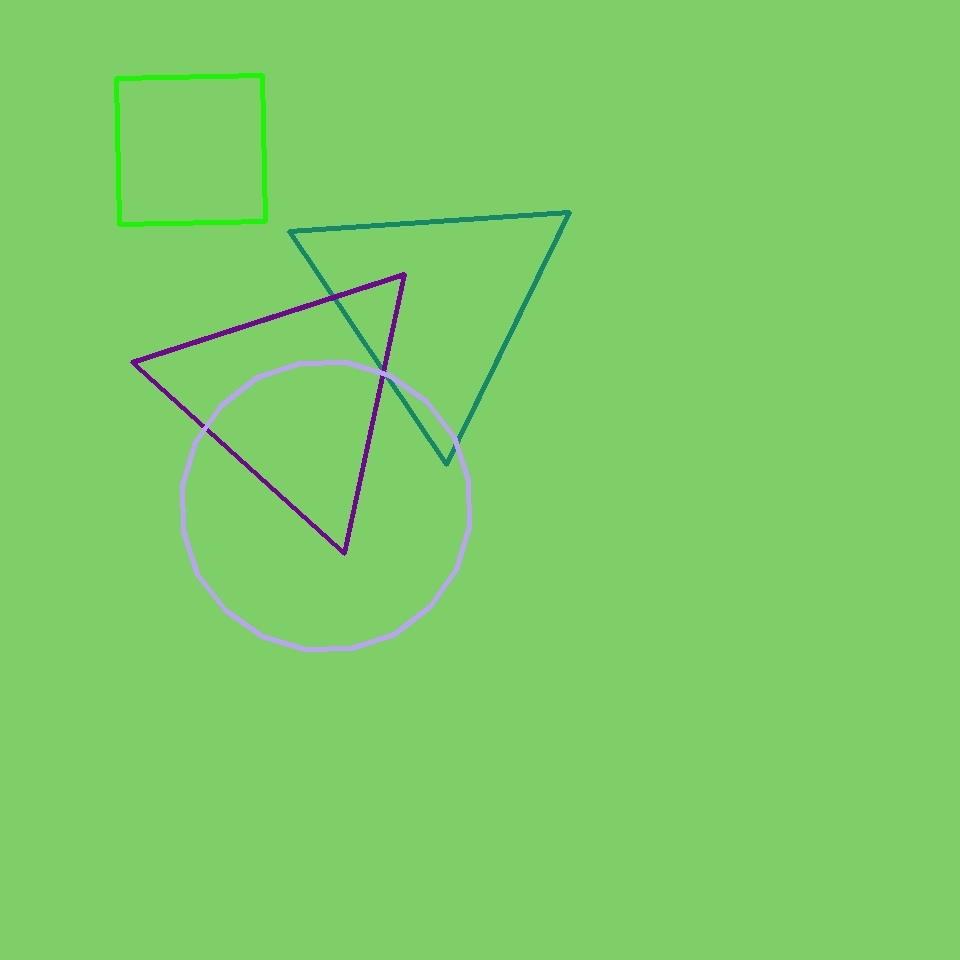circle: (158, 257, 430, 536), (295, 177, 575, 429)
square: (116, 76, 266, 224)
triangle: (183, 362, 470, 650)
